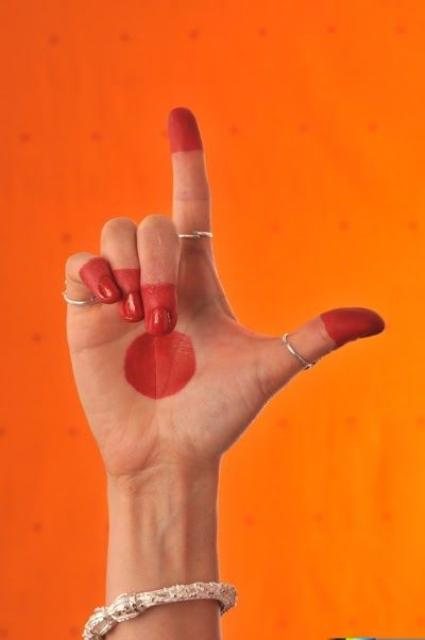chandrakala: (63, 110, 386, 640)
